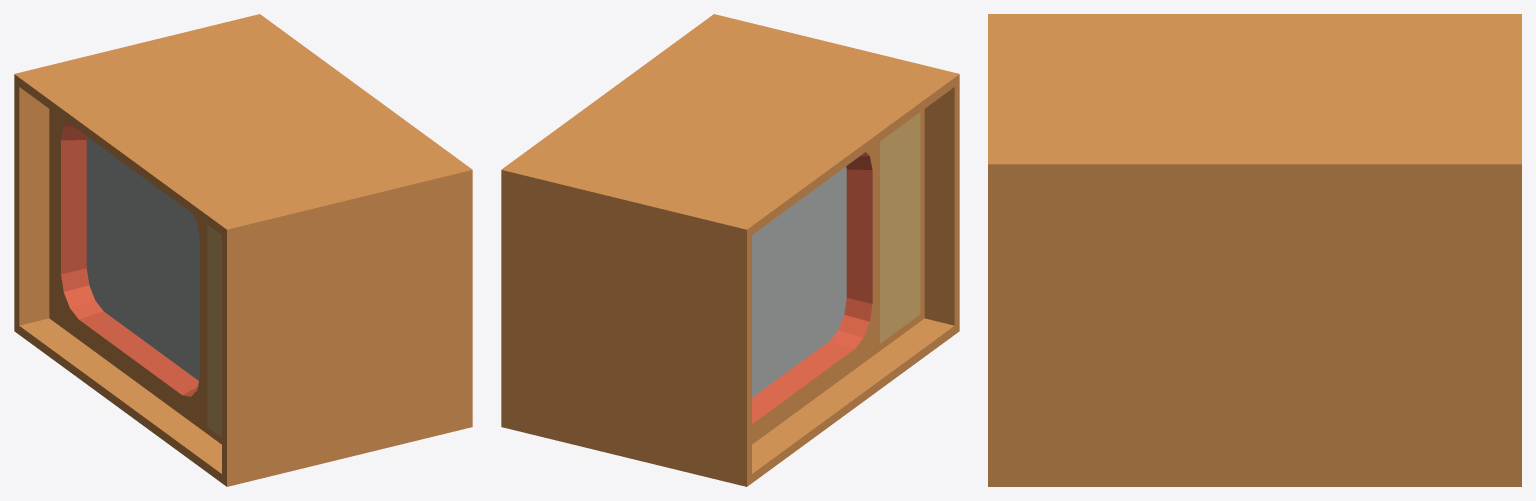
The model's file is Televisão.fbx.
3 renders of one model, left to right at view 1: azimuth 30°, elevation 25°; view 2: azimuth 150°, elevation 25°; view 3: azimuth 270°, elevation 25°, orthographic. The views are drawn at different scales.
Visible parts, largest first — view 1: Cube.015; view 2: Cube.015; view 3: Cube.015.
Boxes of the visible parts, x1=… form: Cube.015: x1=14, y1=14, x2=472, y2=486; Cube.015: x1=501, y1=14, x2=959, y2=486; Cube.015: x1=988, y1=14, x2=1521, y2=486.
Bounding box in the file's own units: 200 × 200 × 300.
